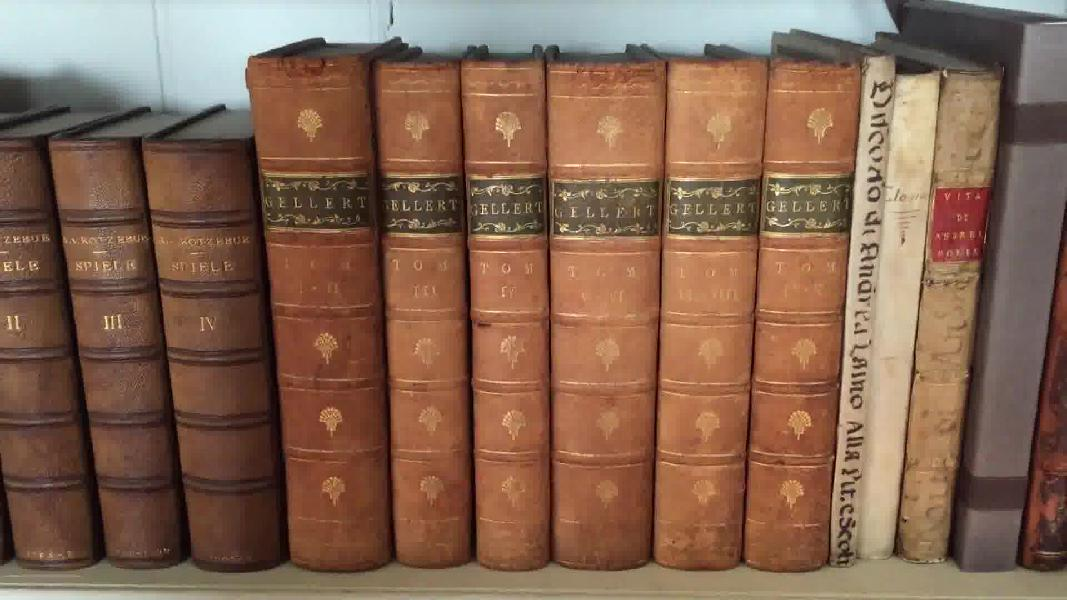Aa6-18_23: (239, 32, 866, 581)
Aa6-24: (832, 40, 900, 574)
Aa6-25: (861, 54, 940, 554)
Aa6-26: (890, 54, 998, 567)
Aa6-27: (962, 8, 1063, 600)
